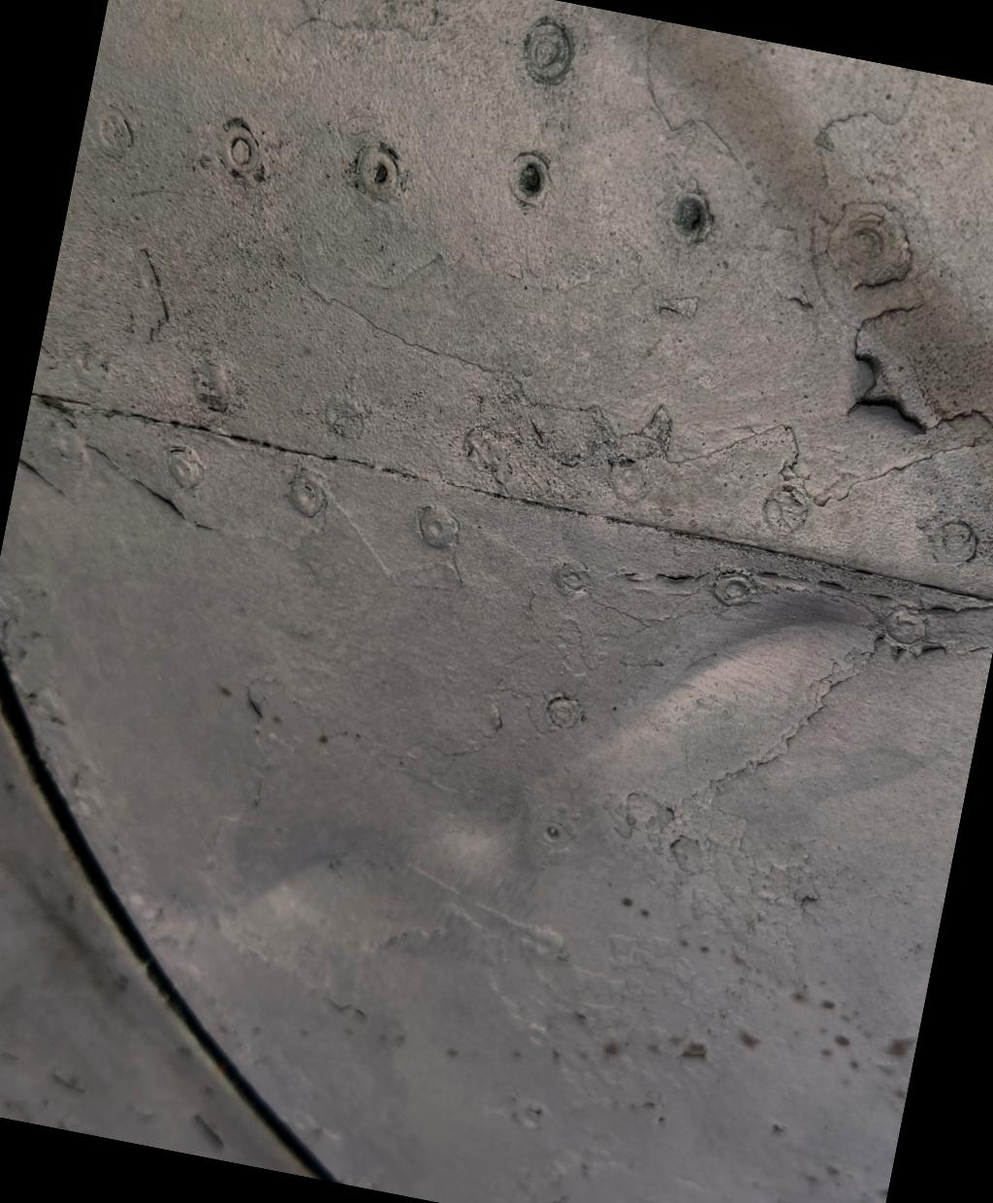dent: (528, 510, 917, 908), (183, 734, 428, 1024)
